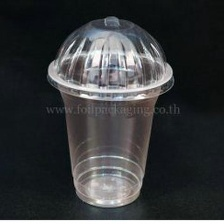glass: (40, 12, 177, 210)
